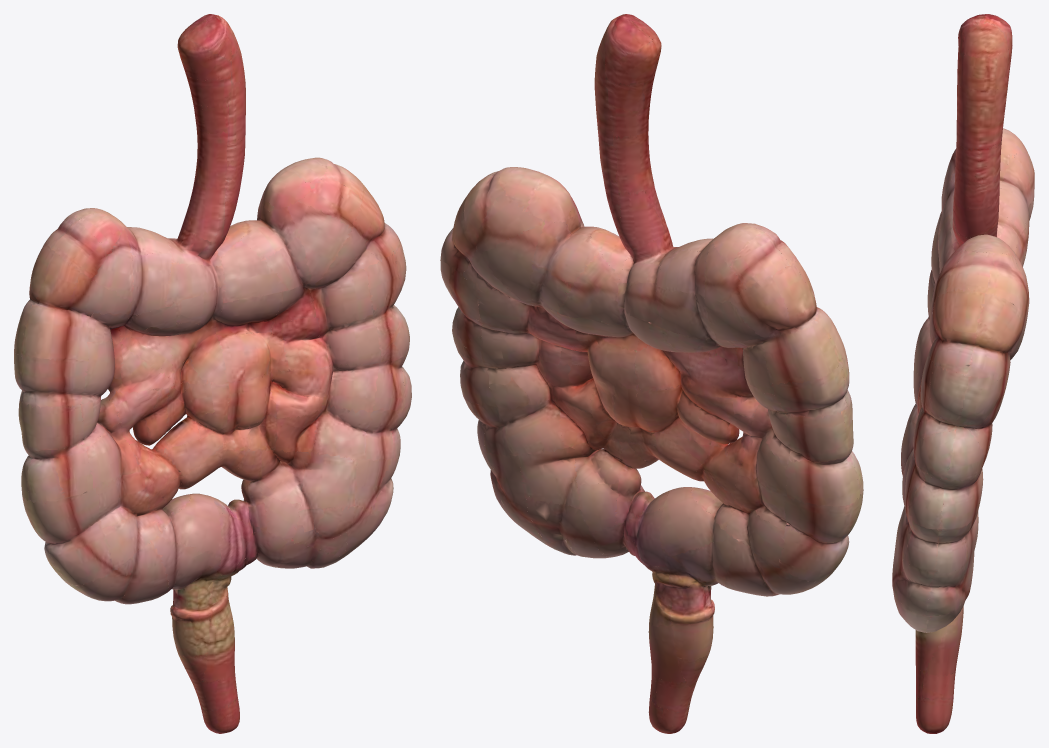
The model's file is Intestino.glb.
3 views of the same model, side by side, from view 1: azimuth 30°, elevation 25°; view 2: azimuth 150°, elevation 25°; view 3: azimuth 270°, elevation 25° (orthographic). The views are drawn at different scales.
Parts seen in each view (by area): view 1: Intestino; view 2: Intestino; view 3: Intestino.
Part boxes in pixels (left/top/right/bottom): Intestino: left=14, top=14, right=411, bottom=733; Intestino: left=440, top=14, right=863, bottom=733; Intestino: left=892, top=14, right=1034, bottom=733.
Bounding box in the file's own units: 1.15 × 2 × 0.3559.
Materials: 1 (1 with a texture image).
